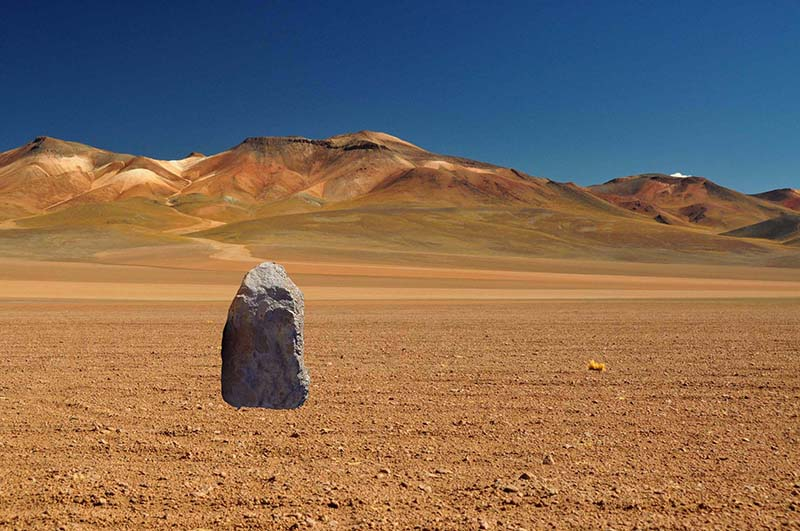Rocks: (213, 259, 318, 413)
